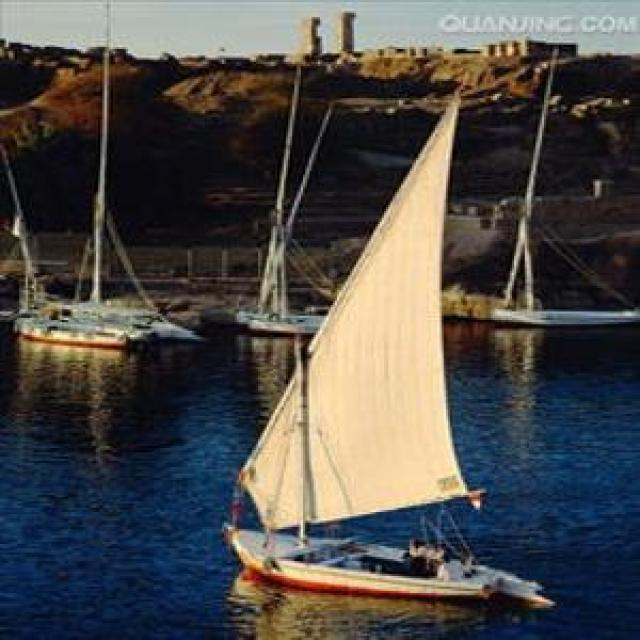sailboat: (203, 94, 532, 632)
